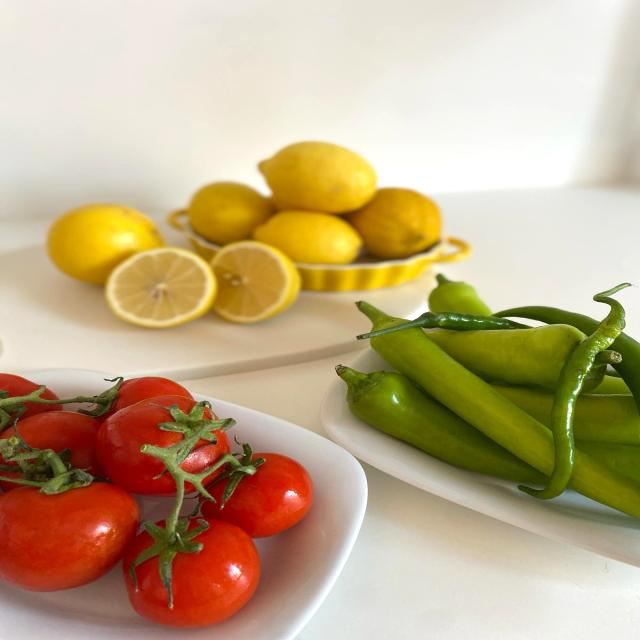green pepper: (352, 294, 640, 525)
lemon: (243, 132, 412, 220), (190, 237, 310, 329), (101, 240, 222, 330)
tomato: (93, 392, 248, 499)
